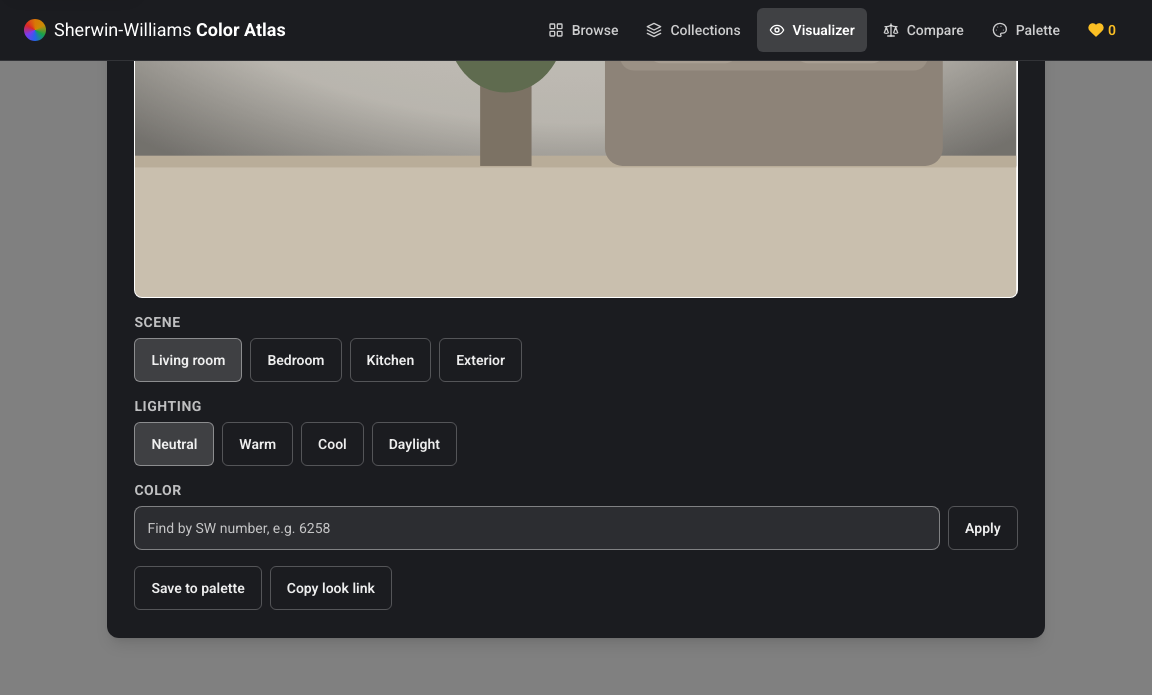
Test: Room Visualizer (E9) › switches the scene (US9.1)
(page scrolled)
Step 1. Click the button "Bedroom" → click(296, 360), box x1=250 y1=338 x2=342 y2=382
(page scrolled)
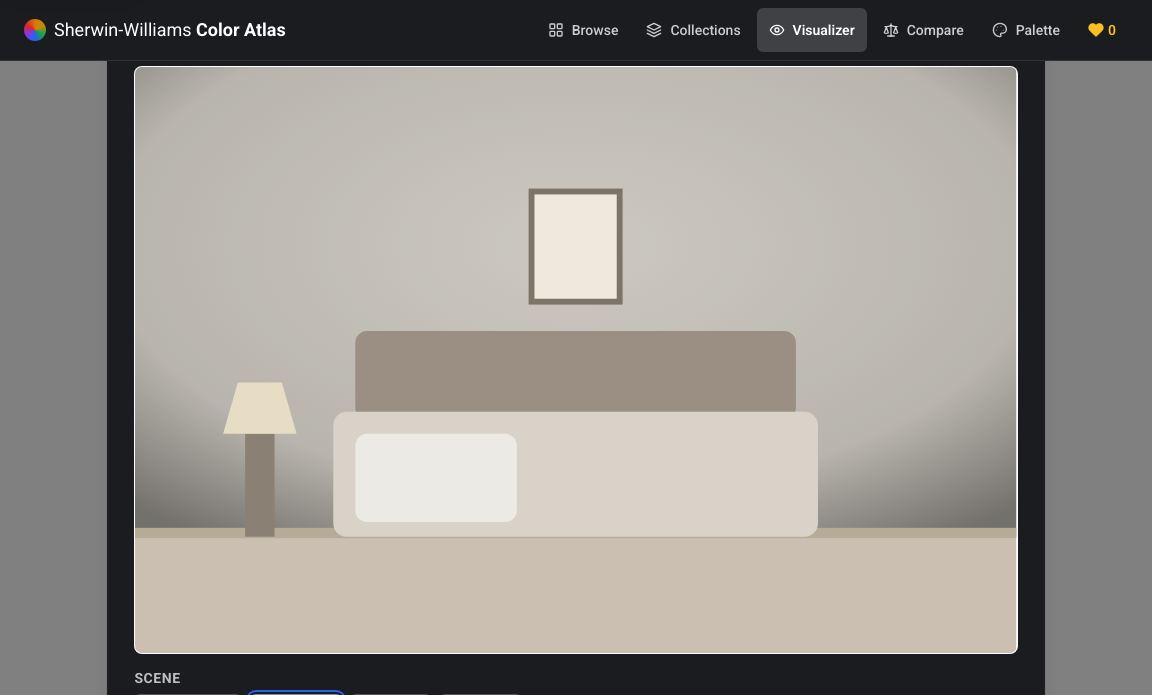
expect the picture named "Bedroom with the walls painted" is shown: met
